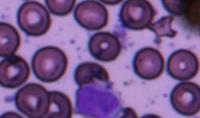L: (76, 81, 123, 117)
